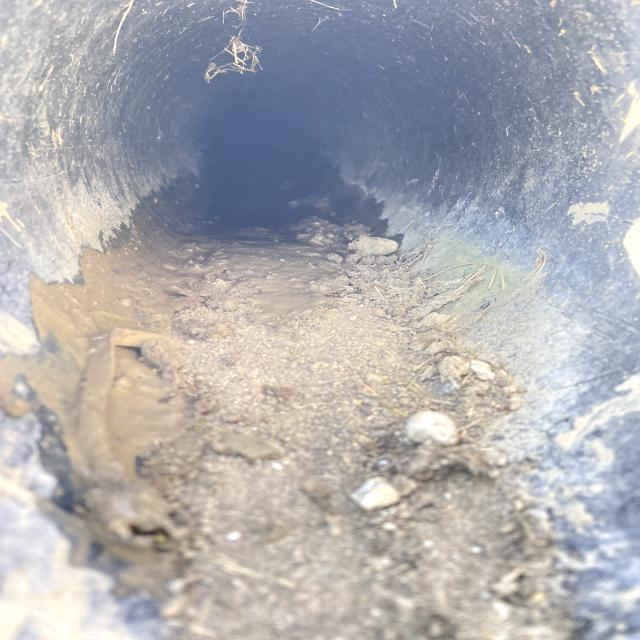dirt: (121, 212, 498, 640)
root: (208, 7, 264, 83)
